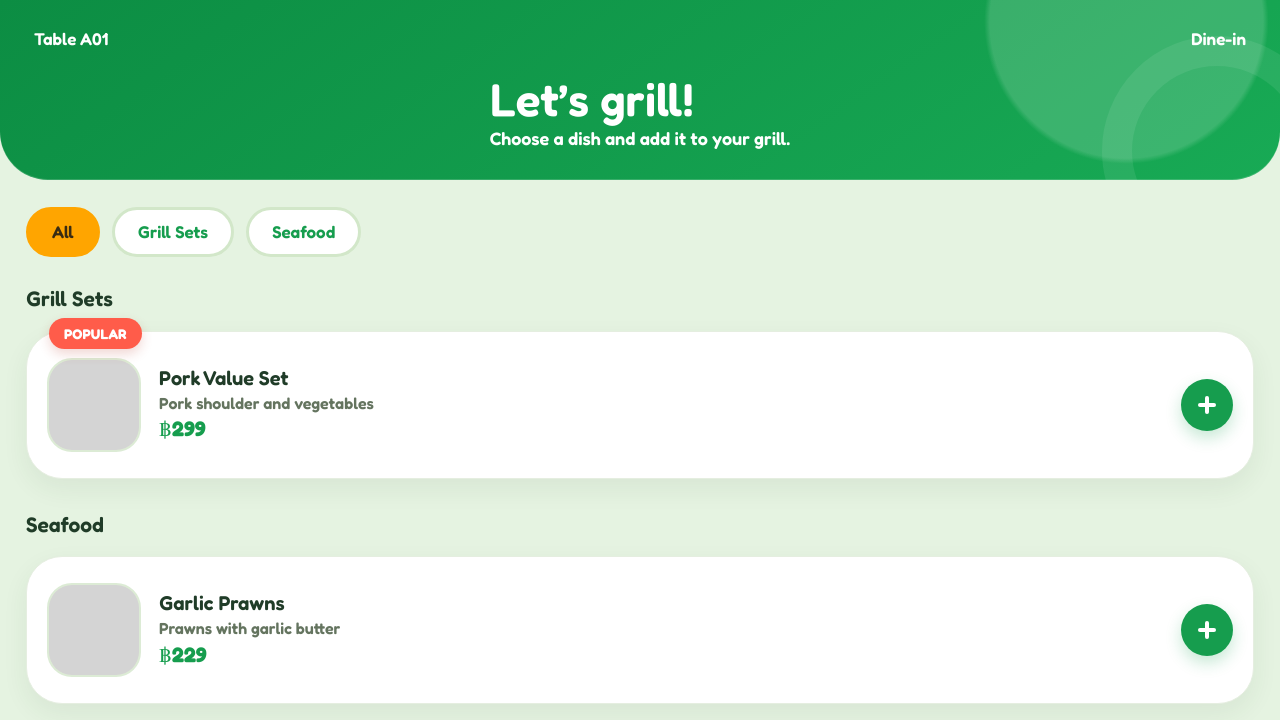
customer menu presentation › groups all items and filters a selected category
Expected: the heading "Pork Value Set" is shown, [159,366,288,390]
Expected: the heading "Garlic Prawns" is shown, [159,591,285,615]
Click the tab "Seafood" at (304, 232), box [246,207,361,257]
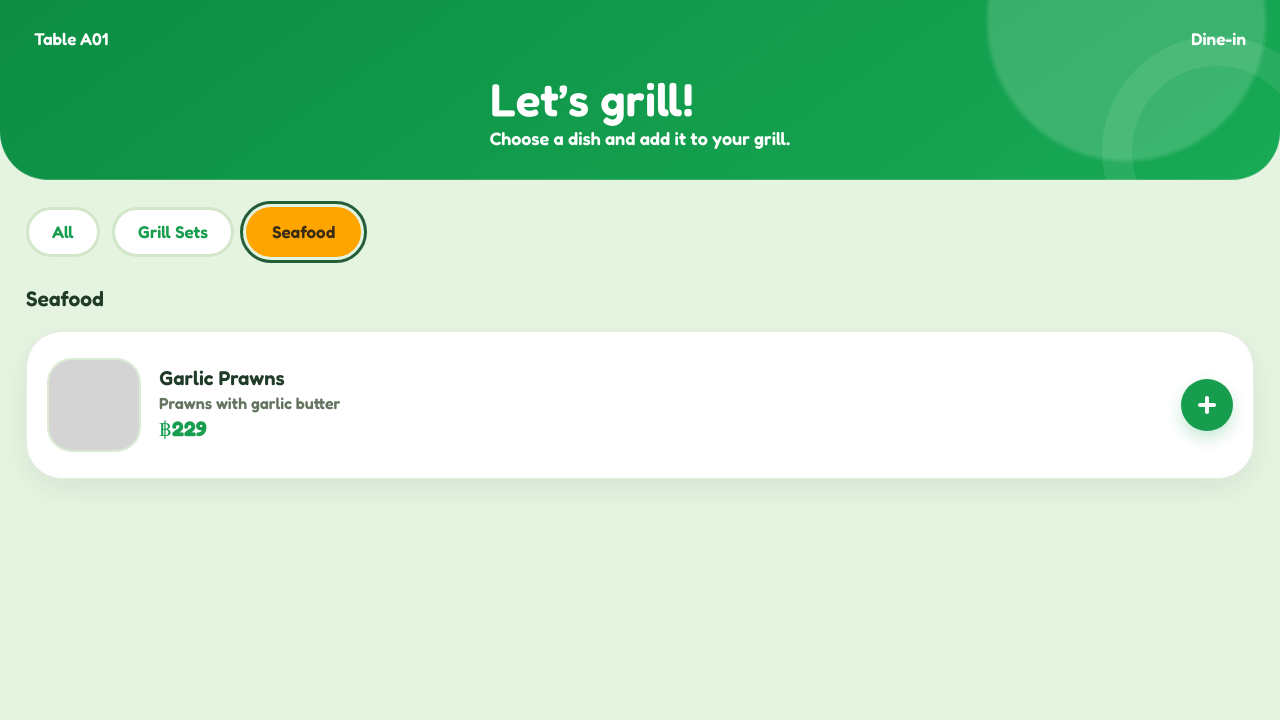
Expected: the heading "Garlic Prawns" is shown, [159,366,285,390]
Now the heading "Pork Value Set" is gone
